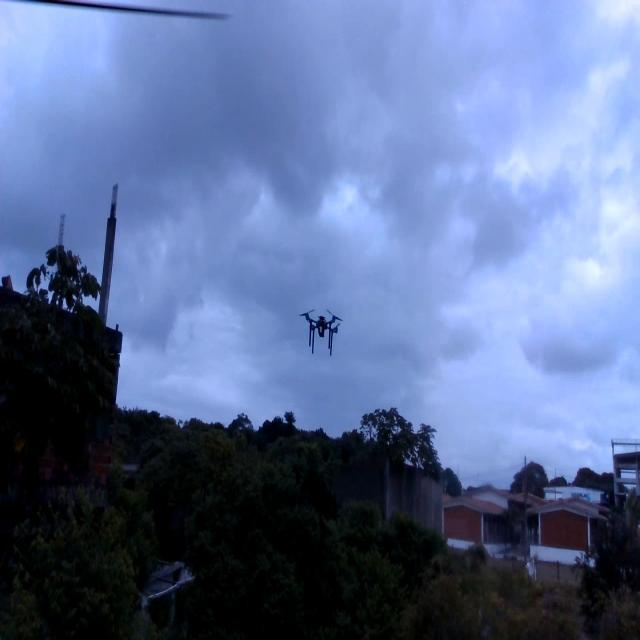-uav-: (299, 298, 349, 370)
